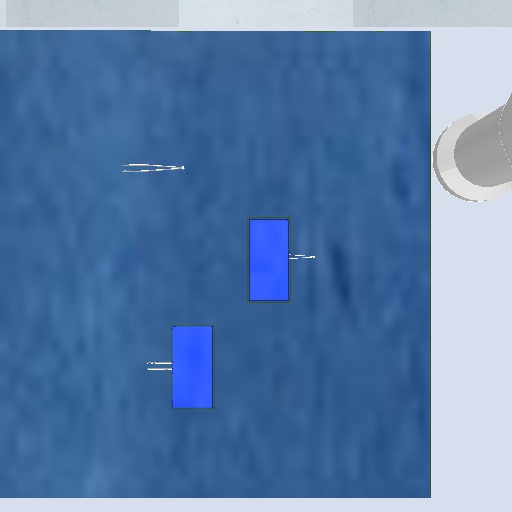pinza: (117, 157, 190, 179), (142, 358, 172, 374), (289, 249, 319, 265)
